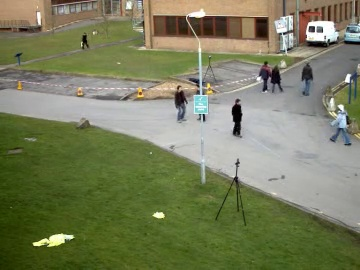person: (174, 85, 189, 122), (173, 85, 188, 122), (174, 86, 189, 122)
